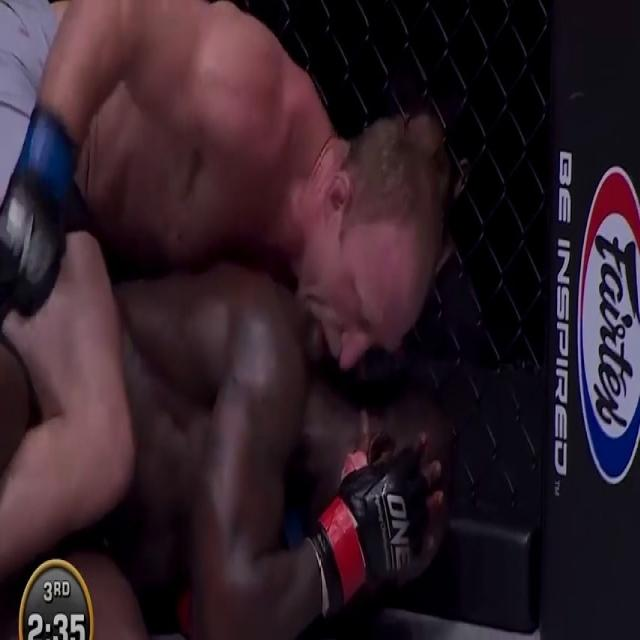fight: (0, 0, 463, 639)
